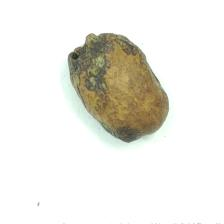NG: (67, 33, 109, 113), (108, 33, 150, 64), (96, 118, 141, 146)
